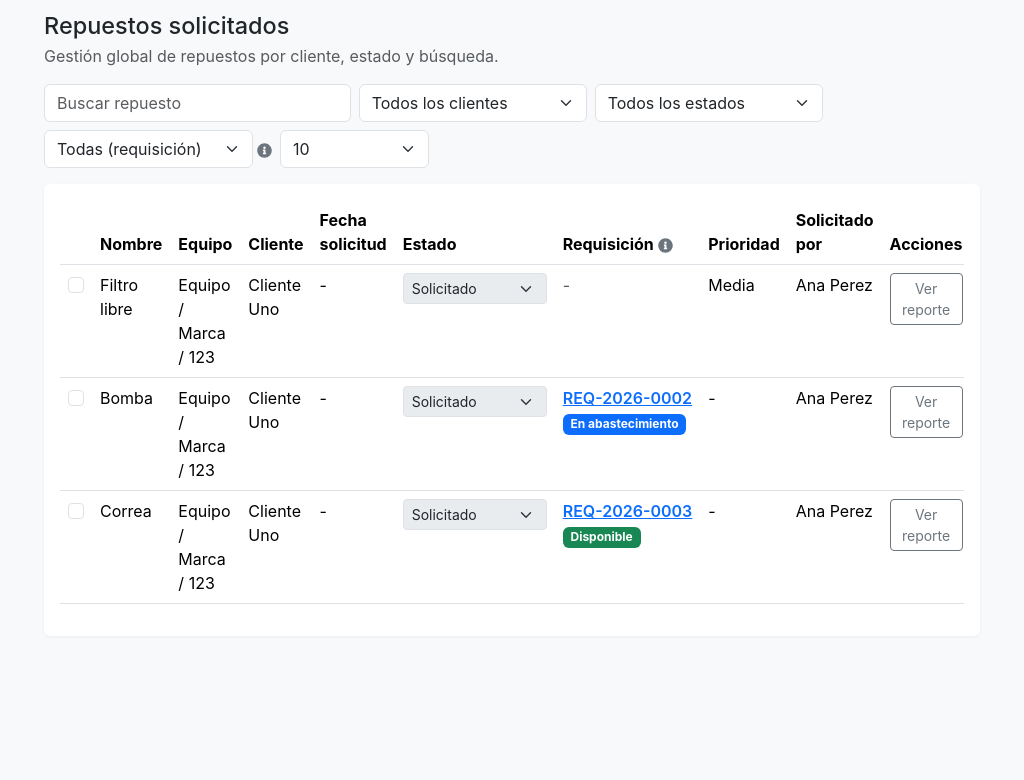
Scenario: RepuestosSolicitadosPage (module on) › disables Crear OT with an explanation while a selected row is not available
Step 1. Click the checkbox in the row of "REQ-2026-0002" → (76, 398), box [68,390,84,406]
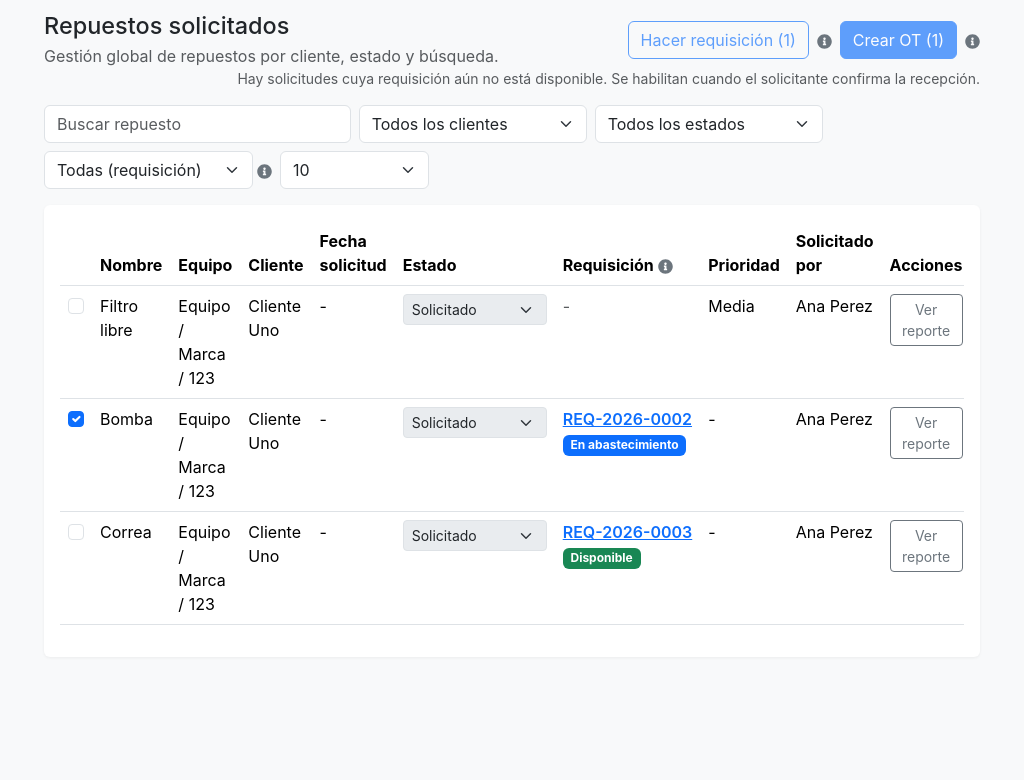
Expected: the button "Crear OT (1)" is disabled, [840,21,957,59]
Expected: the text "requisición aún no está disponible" is shown, [237,70,980,87]
